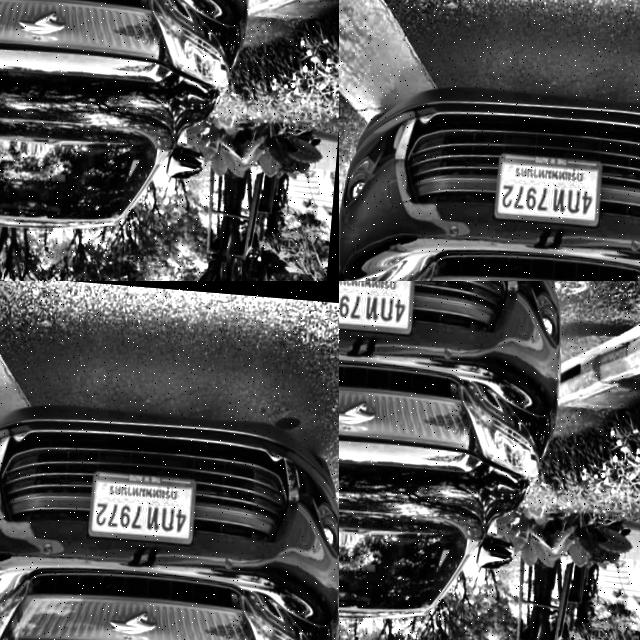license-plate: (339, 281, 420, 330)
